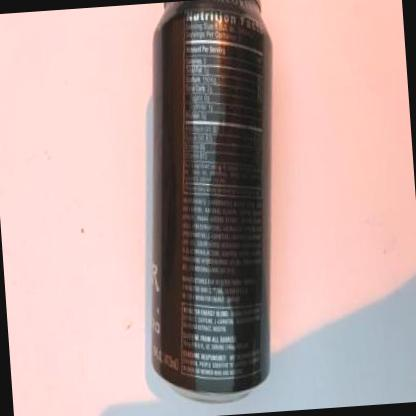alumunium_can: (122, 0, 298, 408)
